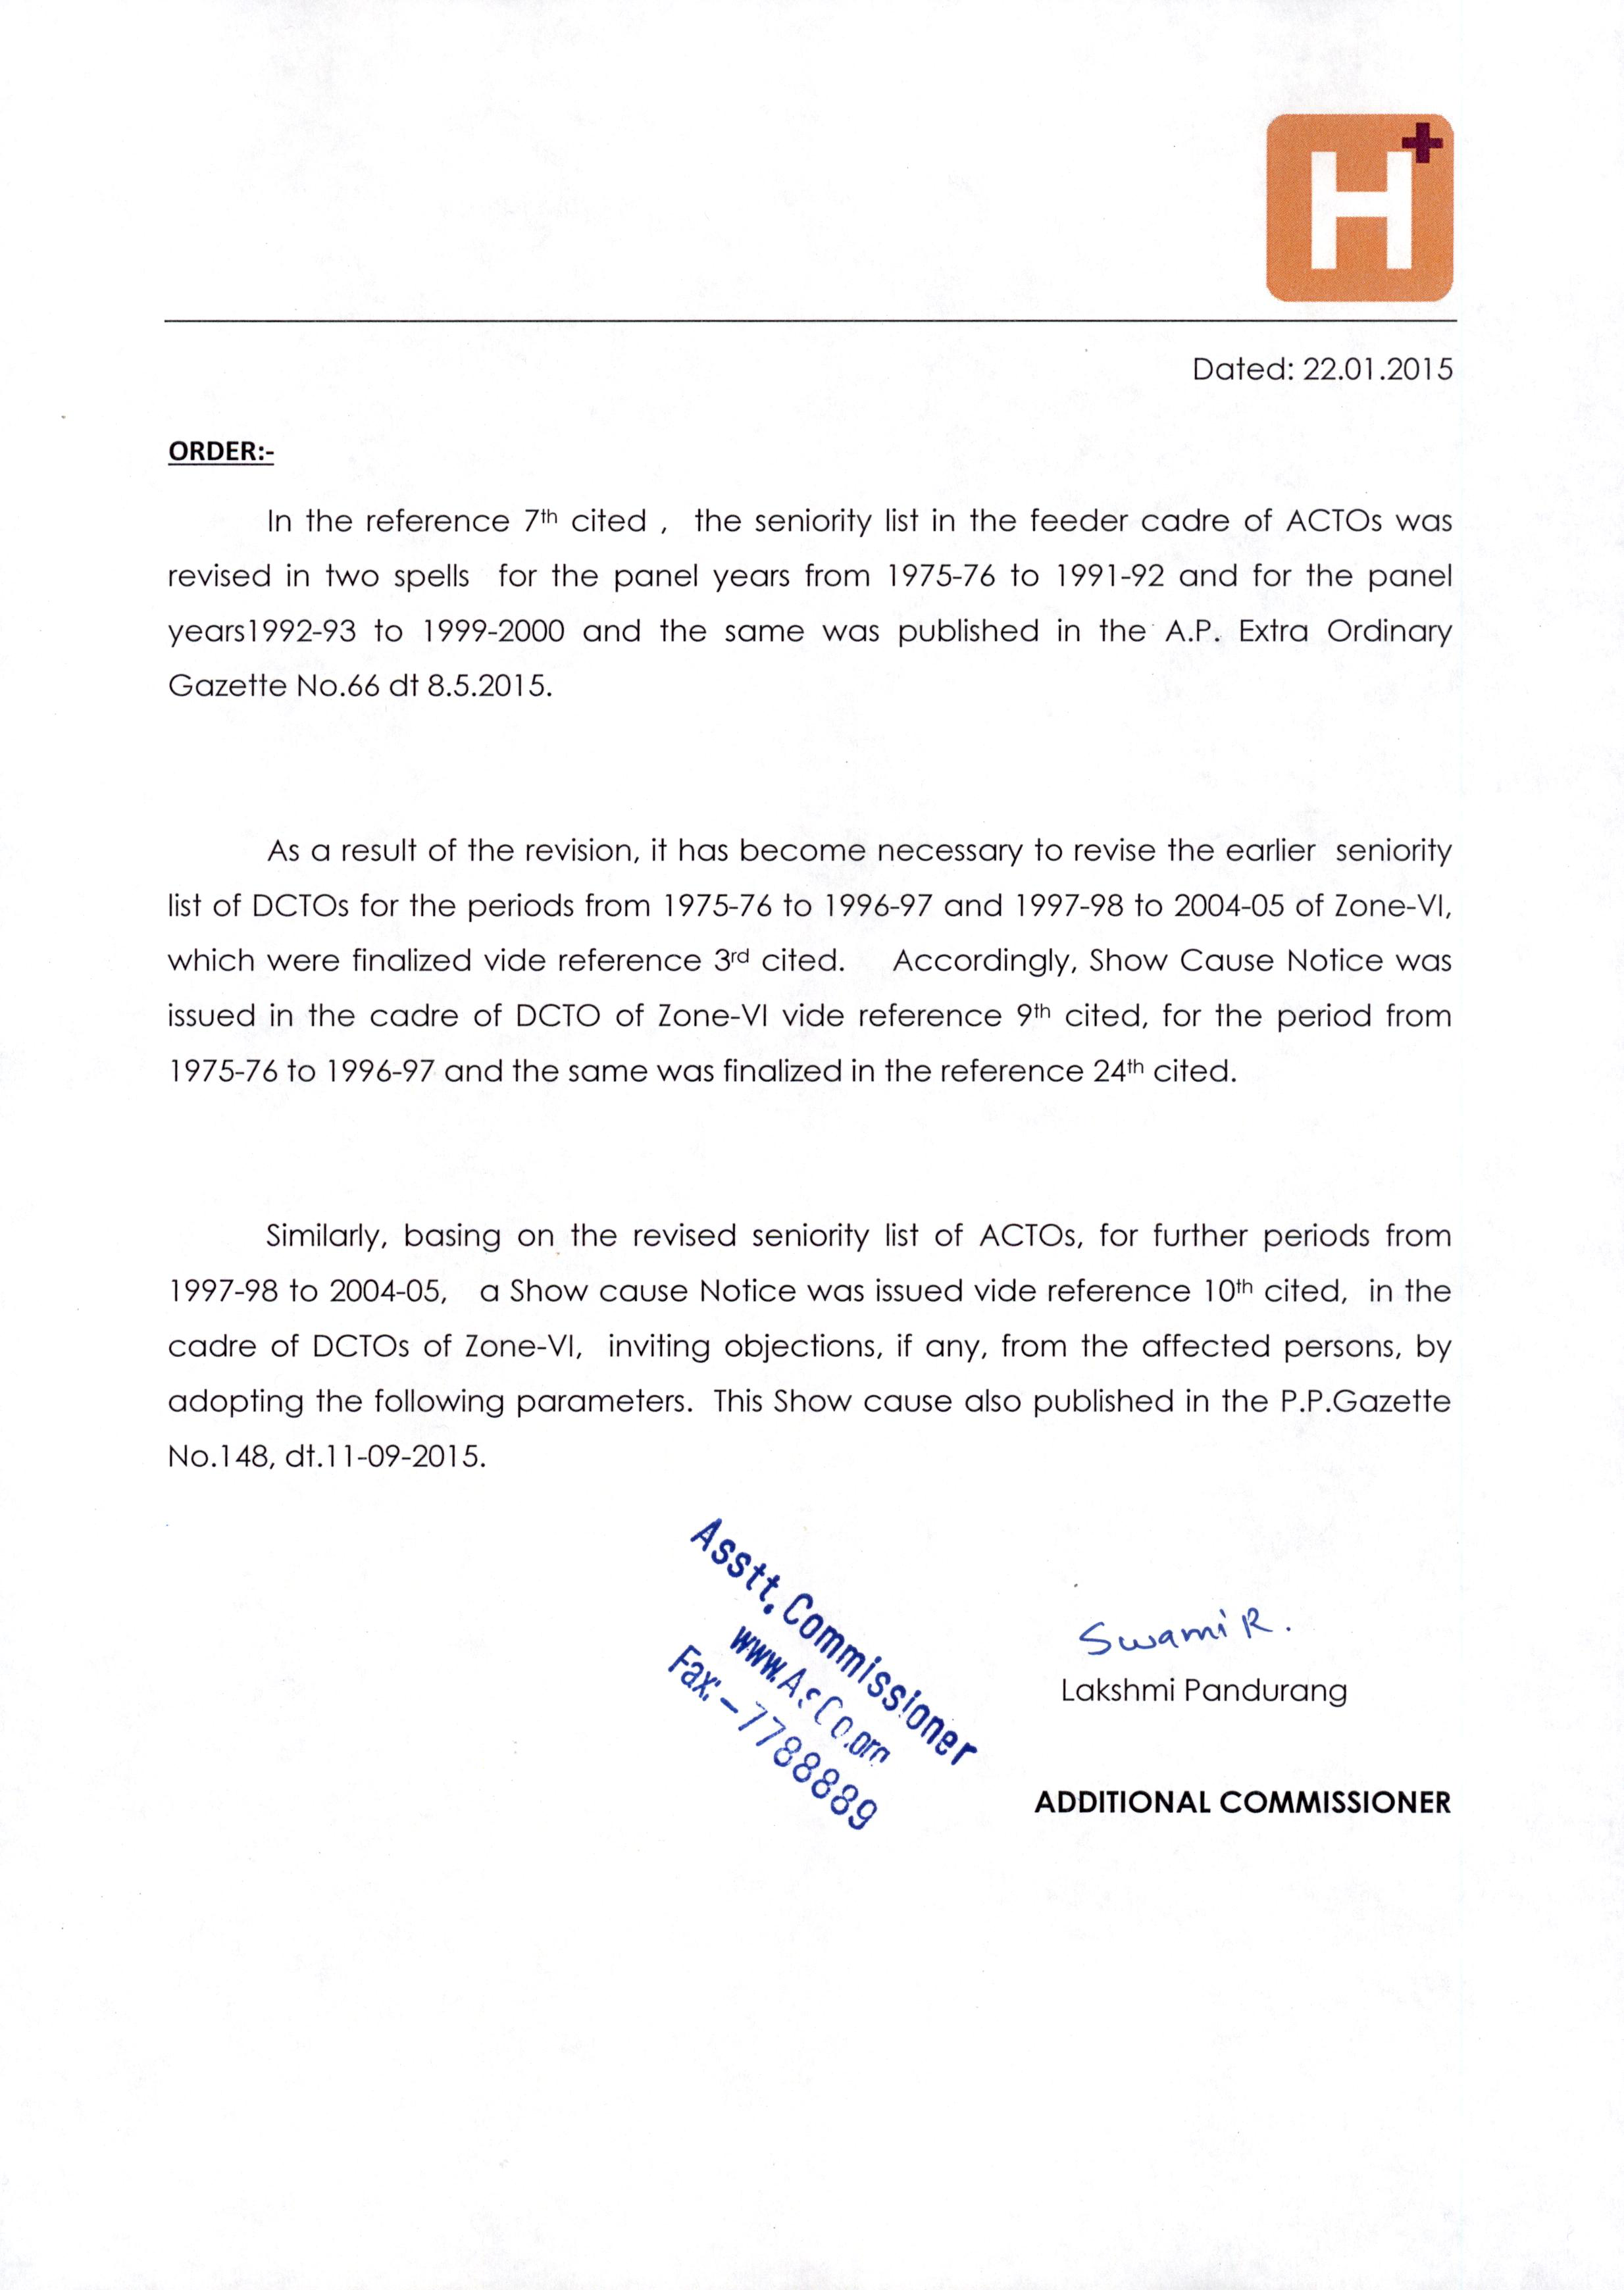Signature: (1070, 1591, 1308, 1668)
